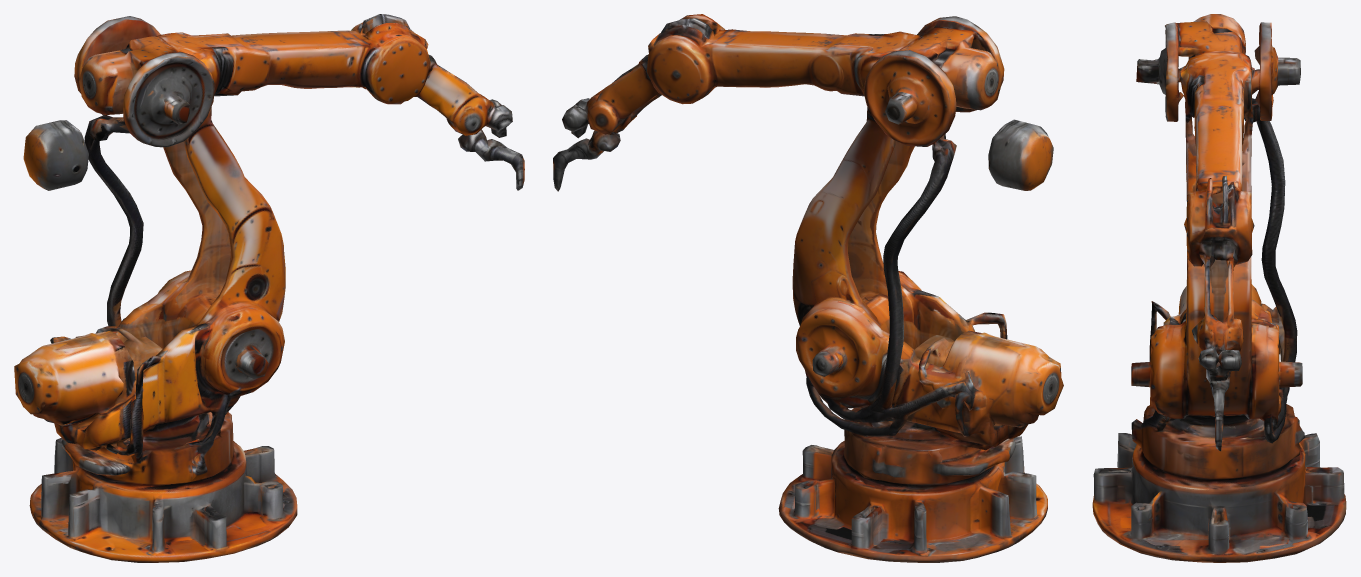
File: robot.glb
3 renders of one model, left to right at view 1: azimuth 30°, elevation 25°; view 2: azimuth 150°, elevation 25°; view 3: azimuth 270°, elevation 25°, orthographic.
Size of the model in its own units: 2.01 by 1.85 by 0.8976.
1 material, 1 textured.
